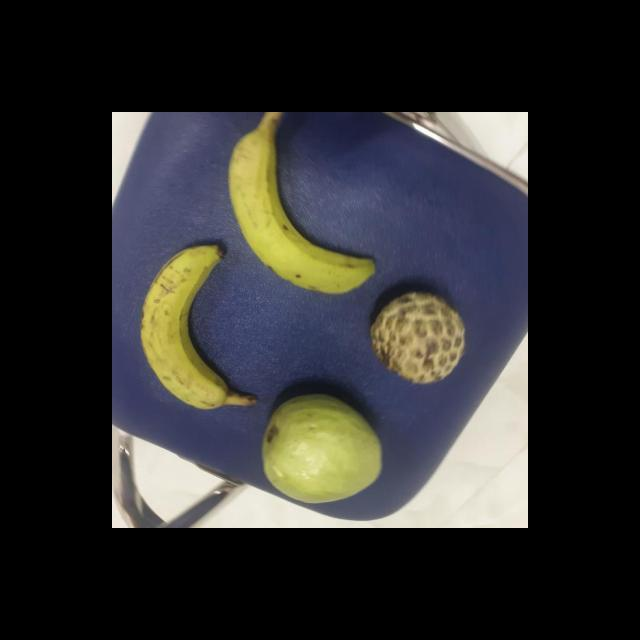Sakya fruit: (372, 290, 472, 384)
banana: (232, 113, 386, 292), (140, 248, 259, 409)
guava: (263, 392, 387, 506), (372, 288, 475, 386)
